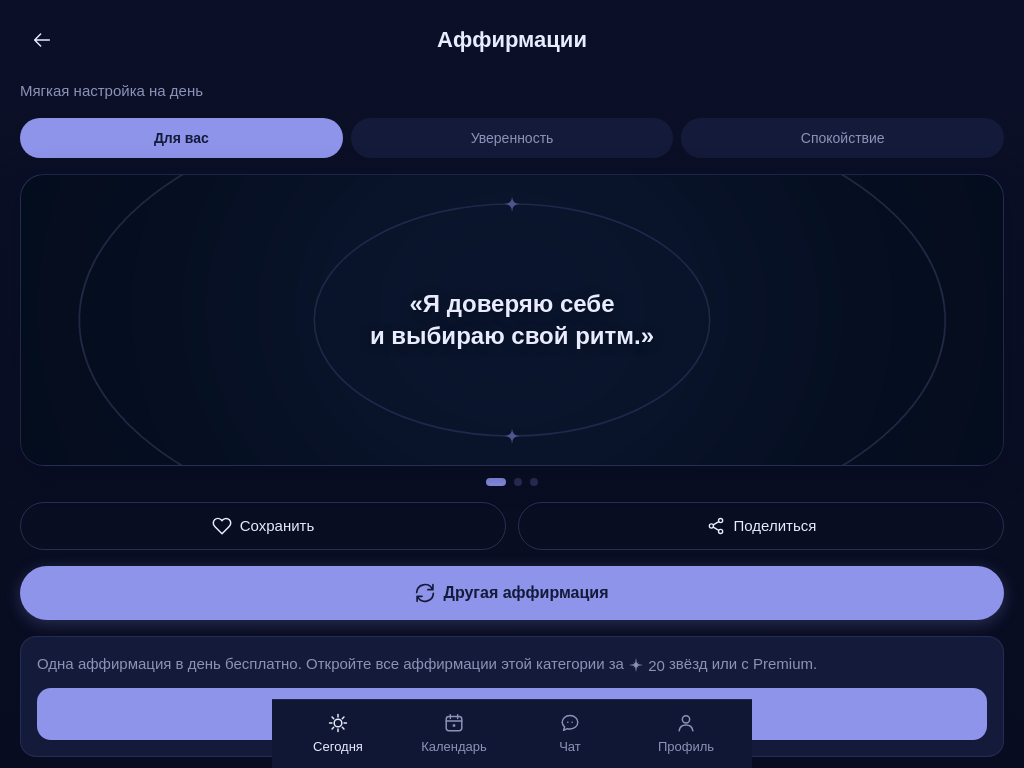
Scenario: AffirmationsScreen › toggles saving affirmation to favorites and persists in localStorage
The image size is (1024, 768).
Click the button with aria-label "Сохранить аффирмацию" at (263, 526), box [20,502,506,550]
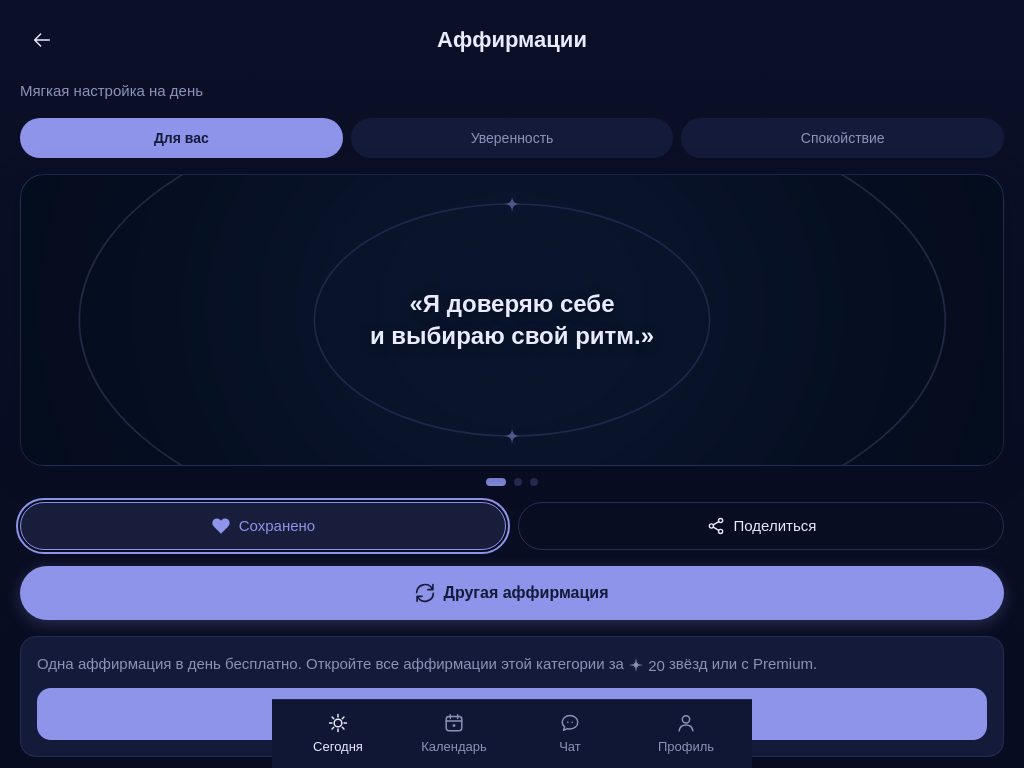
Now the button with aria-label "Удалить из сохранённых" reads "Сохранено"
Click the button with aria-label "Удалить из сохранённых" at (263, 526), box [20,502,506,550]
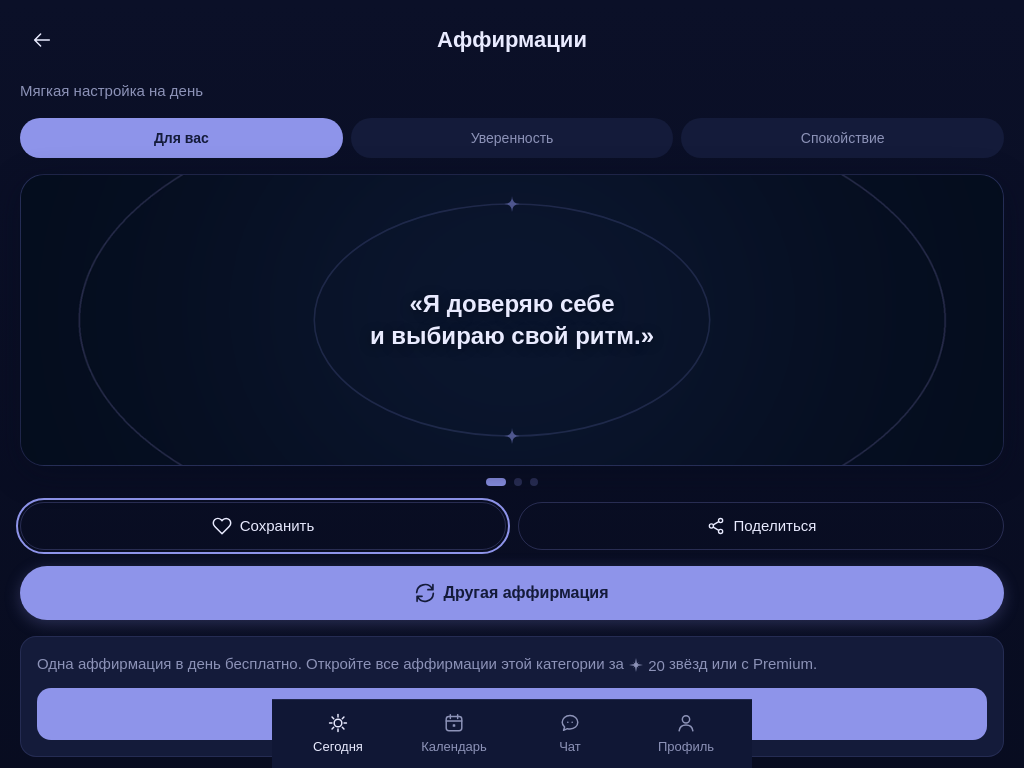
Now the button with aria-label "Сохранить аффирмацию" reads "Сохранить", box [20,502,506,550]
